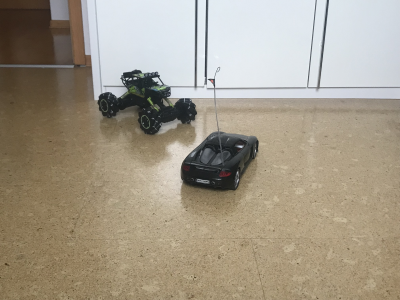remote control car: (95, 66, 198, 136)
